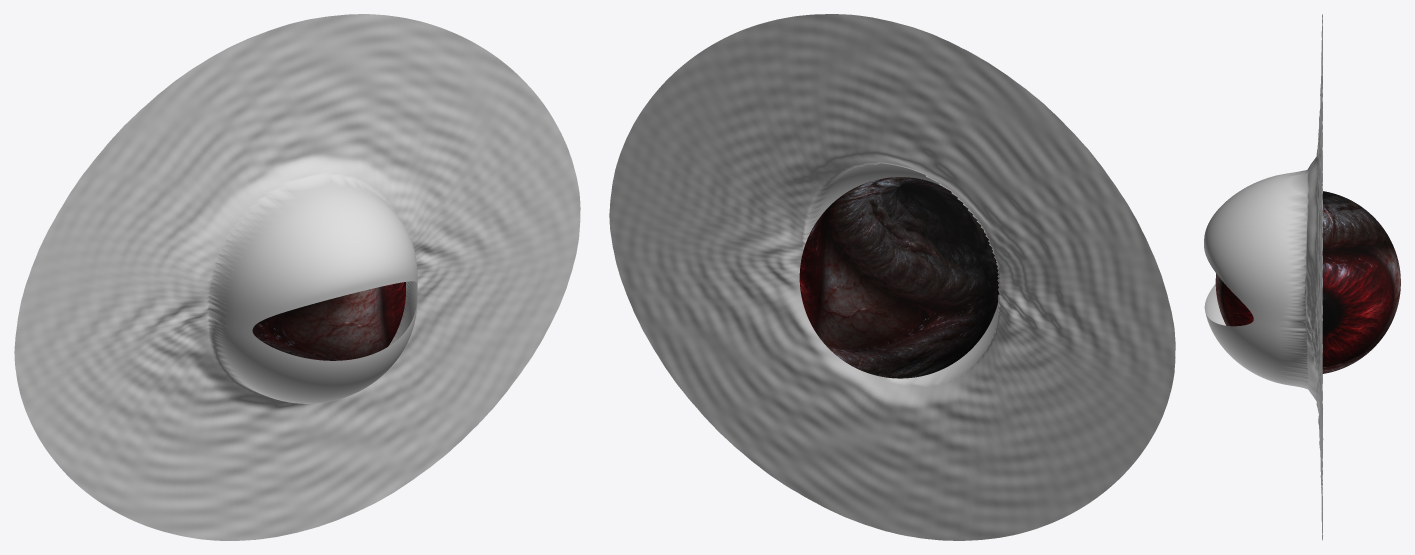
Rendered from Watcher.fbx.
3 renders of one model, left to right at view 1: azimuth 30°, elevation 25°; view 2: azimuth 150°, elevation 25°; view 3: azimuth 270°, elevation 25°, orthographic. The views are drawn at different scales.
Parts seen in each view (by area): view 1: Eyelids, Eyeball; view 2: Eyelids, Eyeball; view 3: Eyelids, Eyeball.
Part boxes in pixels (x1,y1,x2,y2): Eyelids: (14, 14, 580, 540); Eyeball: (252, 282, 405, 360); Eyelids: (609, 14, 1175, 540); Eyeball: (799, 177, 999, 378); Eyelids: (1204, 14, 1323, 540); Eyeball: (1215, 191, 1400, 373).
Bounding box in the file's own units: 480 × 414 × 157.
Materials: 2 (1 with a texture image).
